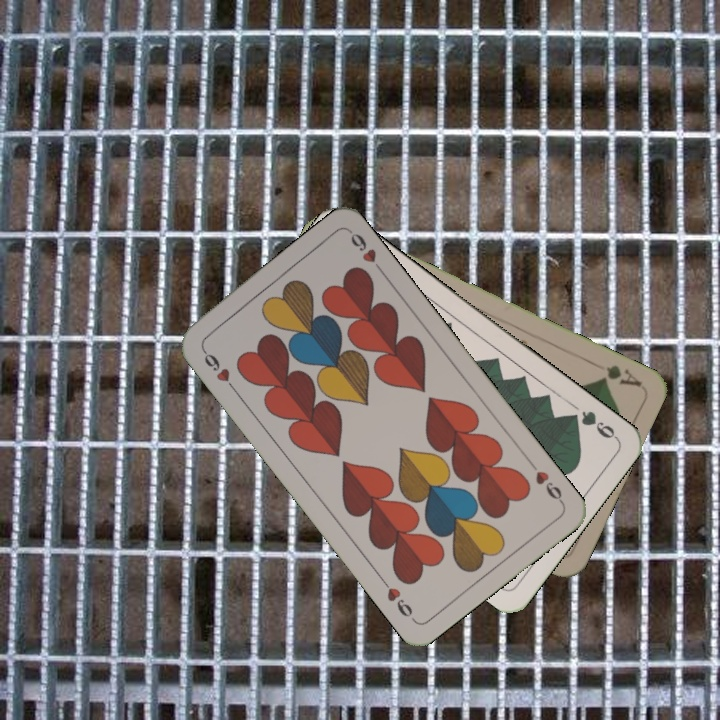G9: (563, 407, 620, 442)
GA: (596, 360, 644, 390)
H9: (197, 344, 239, 394), (525, 457, 566, 507)
